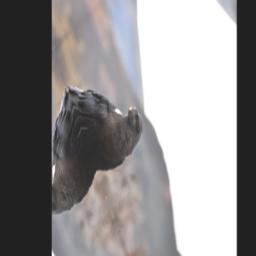Crow: (65, 39, 151, 185)
